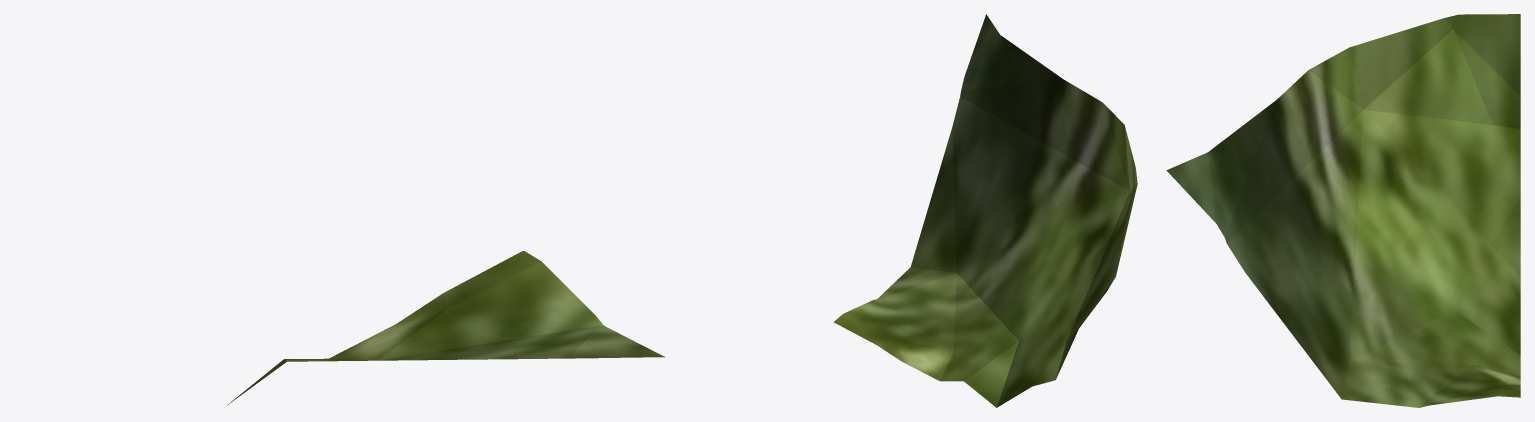
3 renders of one model, left to right at view 1: azimuth 30°, elevation 25°; view 2: azimuth 150°, elevation 25°; view 3: azimuth 270°, elevation 25°, orthographic. The views are drawn at different scales.
Size of the model in its own units: 0.7886 by 0.6582 by 0.7533.
Materials: 1 (1 with a texture image).
